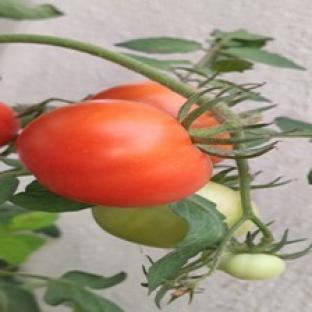Tomato: (17, 101, 211, 207), (92, 205, 188, 247), (91, 81, 186, 118), (219, 254, 285, 279), (0, 102, 20, 146)
